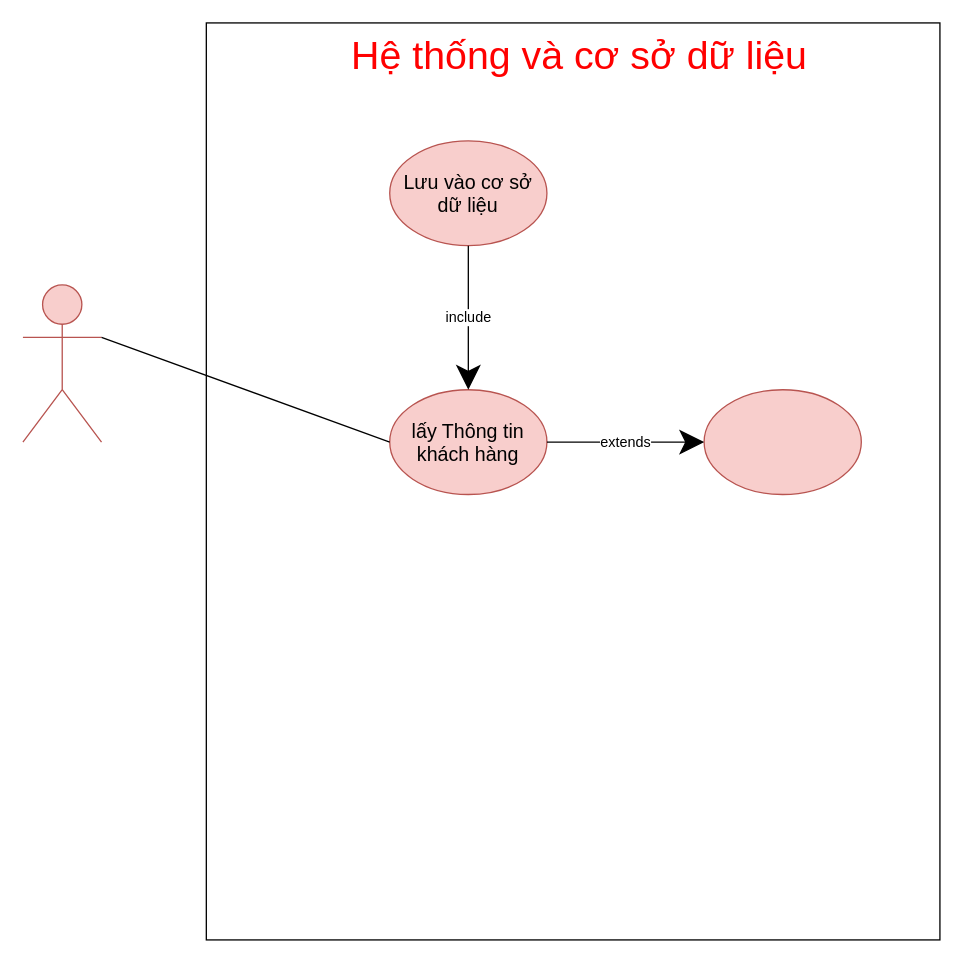
Image size: 963x963. Some labels were removed from this diagram. Here are the shapes that lost their labels. From the top down, the centre of each, then its label:
At point (62, 363): "Hệ Thống".
At point (782, 441): "Sửa Thông tin khách hàng".
